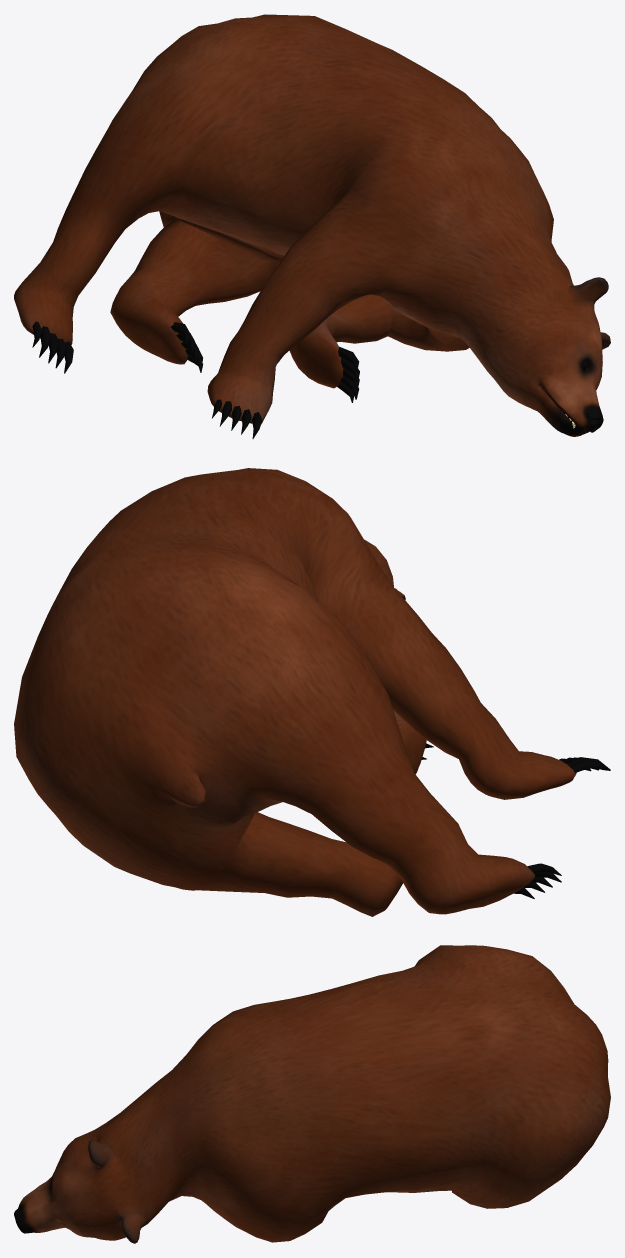
Rendered from bear_dead.obj.
3 views of the same model, one above another, from view 1: azimuth 30°, elevation 25°; view 2: azimuth 150°, elevation 25°; view 3: azimuth 270°, elevation 25° (orthographic). The views are drawn at different scales.
Parts seen in each view (by area): view 1: bear_mesh_dead; view 2: bear_mesh_dead; view 3: bear_mesh_dead.
Part boxes in pixels (left/top/right/bottom): bear_mesh_dead: left=14, top=14, right=610, bottom=438; bear_mesh_dead: left=14, top=468, right=610, bottom=916; bear_mesh_dead: left=14, top=945, right=610, bottom=1243.
Bounding box in the file's own units: 35.26 × 22.07 × 45.16.
1 material, 1 textured.
